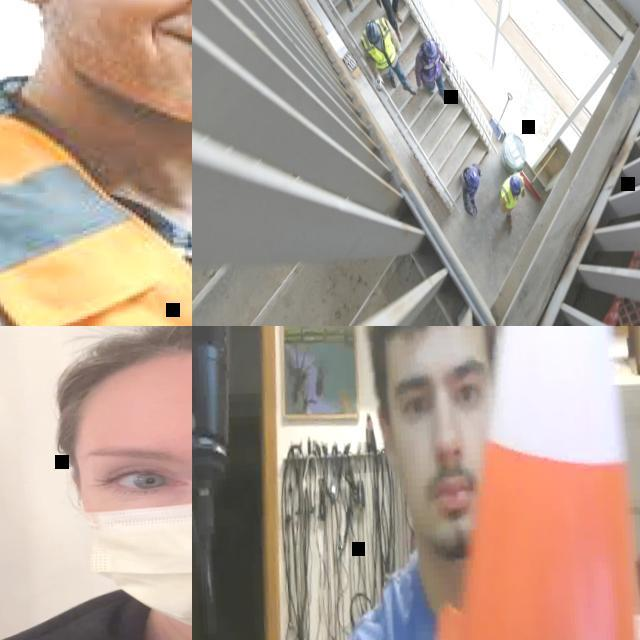helmet: (365, 18, 381, 44), (424, 38, 439, 61), (509, 174, 522, 196), (466, 168, 480, 188)
vest: (0, 77, 192, 326), (359, 16, 397, 70), (500, 172, 526, 208), (418, 40, 441, 78)
